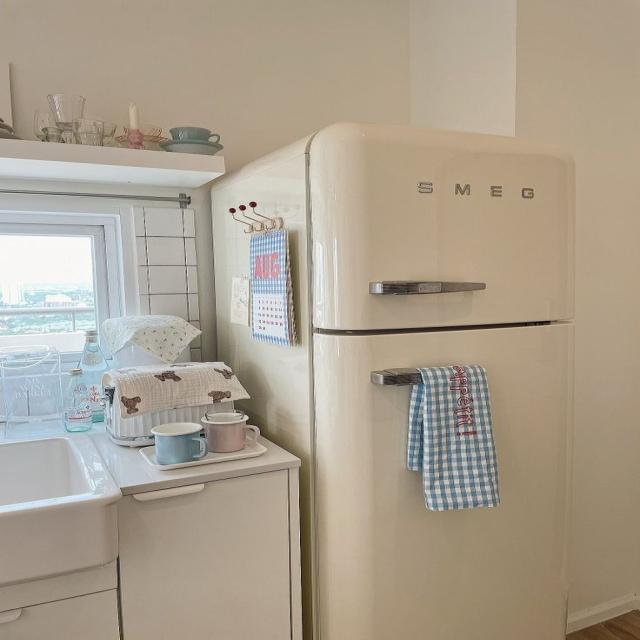obstacle: (208, 119, 576, 639)
